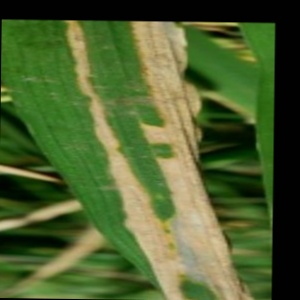Leaf_Blast: (36, 22, 203, 279)
